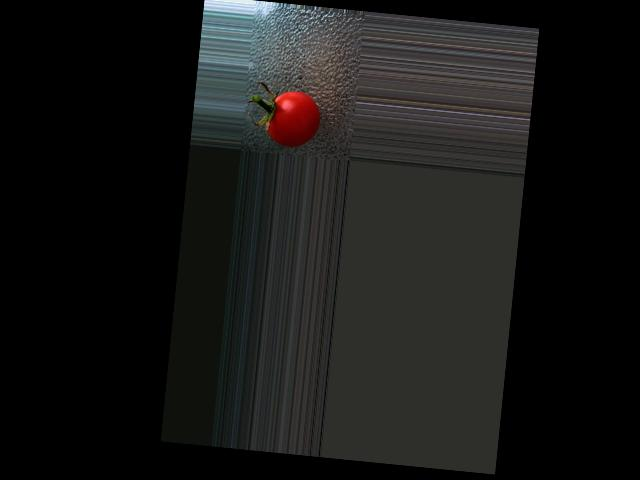tomato: (266, 87, 323, 148)
